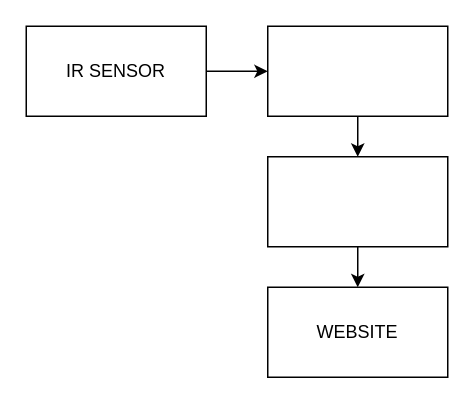
Some shapes in this 474 by 404 pixel diagram are drawn without their labels. Each missing label, with the box of its shape:
ESP32: (266, 25, 448, 116)
MQTT: (266, 155, 448, 247)
